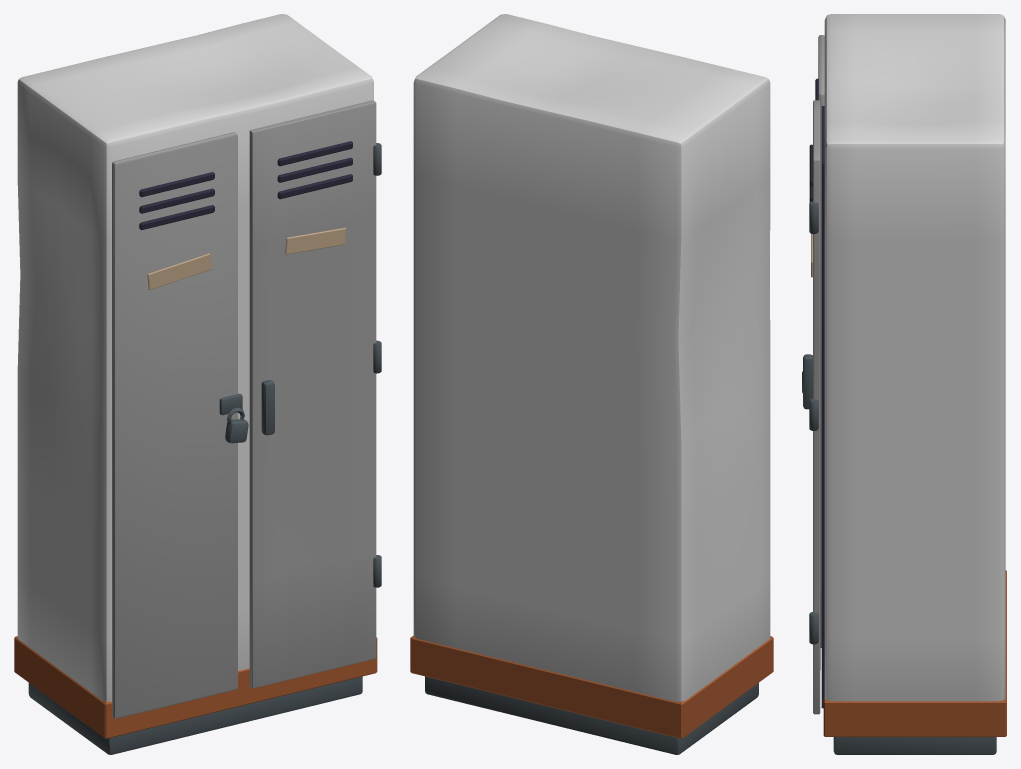
The model's file is locker.glb.
3 views of the same model, side by side, from view 1: azimuth 30°, elevation 25°; view 2: azimuth 150°, elevation 25°; view 3: azimuth 270°, elevation 25° (orthographic).
Visible parts, largest first — view 1: Body, Door; view 2: Body; view 3: Body, Door.
Part boxes in pixels (box(x1,y1,x2,y2)): Body: box(14, 14, 377, 754); Door: box(249, 100, 381, 688); Body: box(410, 14, 773, 754); Body: box(802, 14, 1006, 754); Door: box(803, 100, 821, 714).
Bounding box in the file's own units: 0.866 × 1.88 × 0.5655.
